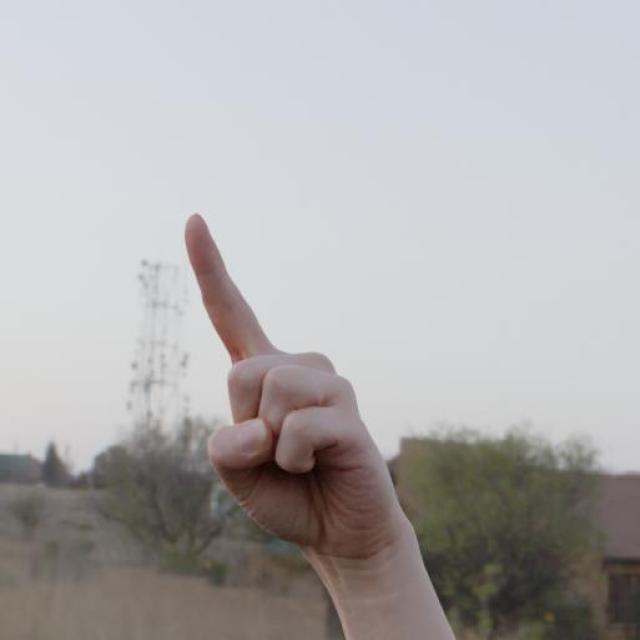Z: (179, 210, 410, 564)
